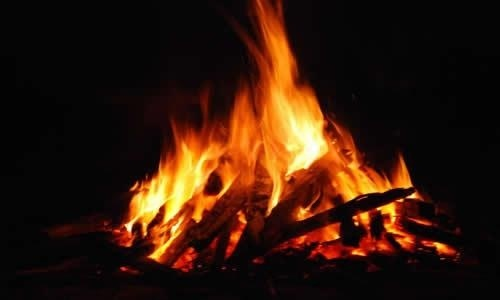fire: (118, 0, 448, 265)
